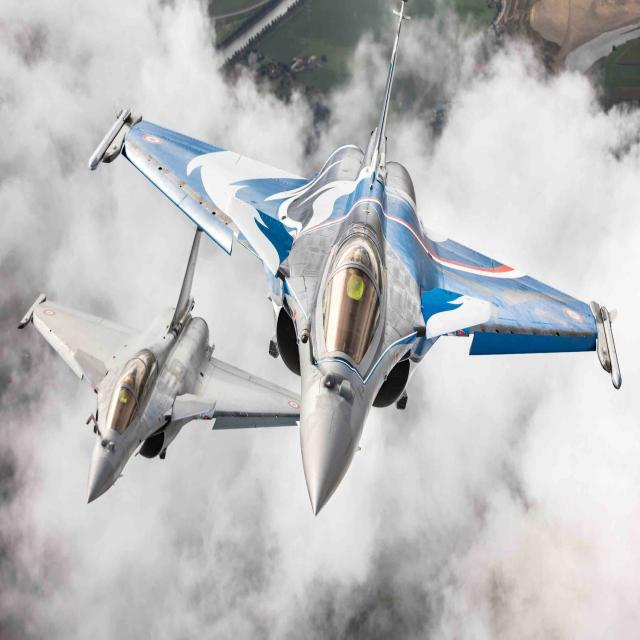MIL_Plane: (88, 0, 622, 518), (17, 225, 301, 504)
